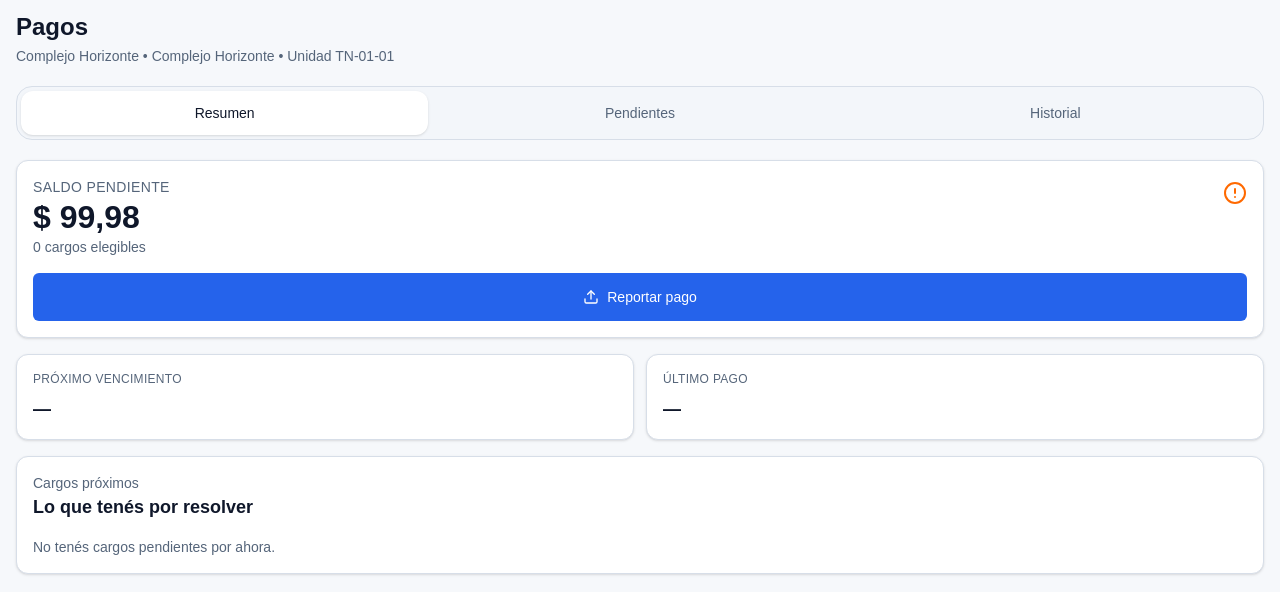
Test: ResidentPaymentsPage › shows an empty-state message when no mobile payment history exists
Click the tab "Historial" at x=1055, y=113, box x1=852 y1=91 x2=1259 y2=135
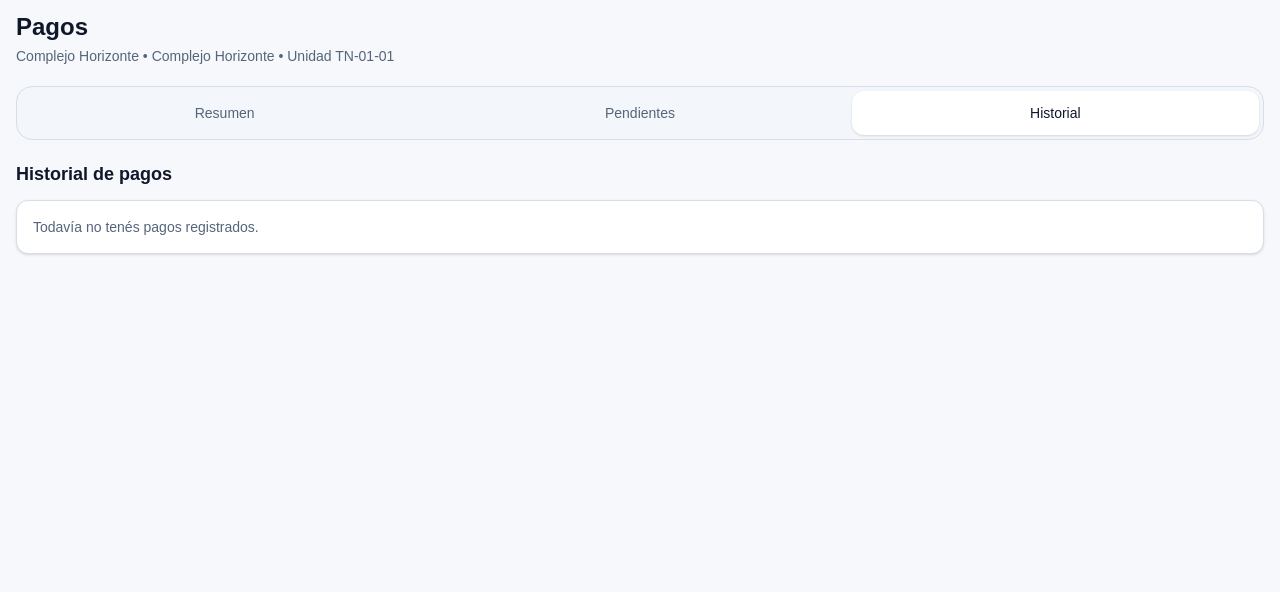
Expected: the text "Todavía no tenés pagos registrados." is shown, x1=33 y1=219 x2=259 y2=235
